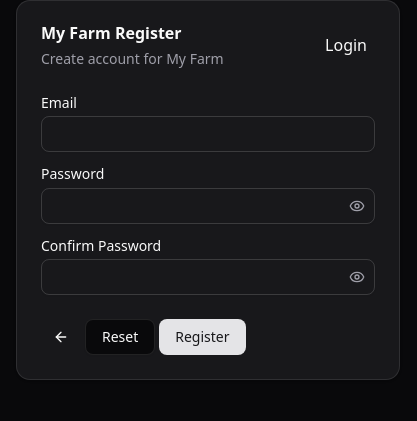
Test: Reg Form Tests › check password mismatch
Type "Test1test" into the password field labelled "Password" at (194, 206), box 42,188 -> 345,224
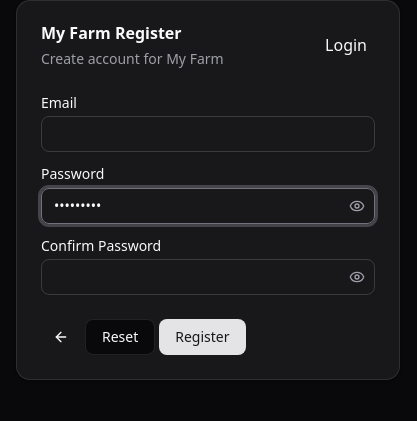
Type "Test" into the password field labelled "Confirm Password" at (194, 277), box 42,259 -> 345,295
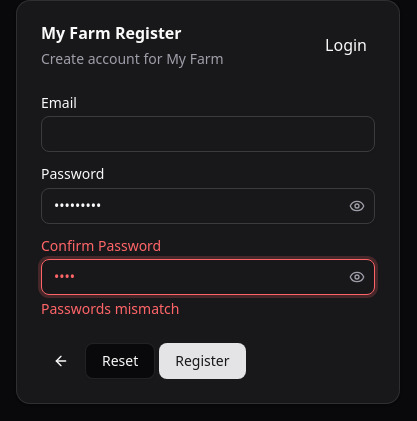
expect the text "Passwords mismatch" is shown: met, box 41,299 -> 180,318
Type "1test" into the password field labelled "Confirm Password" at (194, 277), box 42,259 -> 345,295
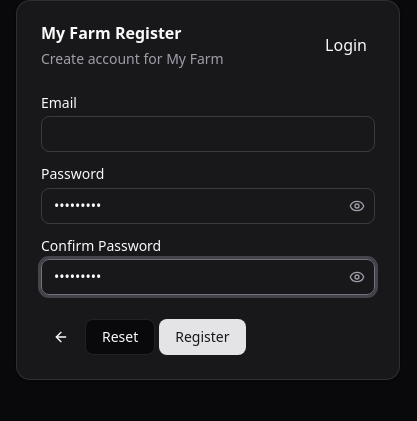
expect the text "Passwords mismatch" is gone: met
